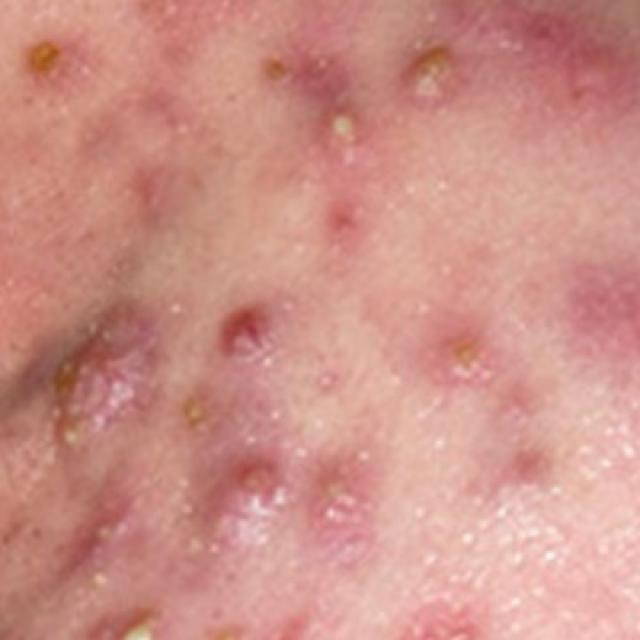acne: (197, 283, 384, 562), (410, 302, 586, 505), (8, 307, 165, 483), (4, 499, 202, 638), (251, 37, 375, 258), (516, 0, 634, 139), (390, 27, 492, 144), (23, 9, 101, 110)
